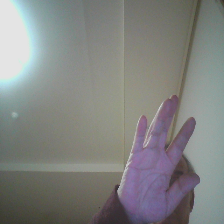hand: (115, 89, 201, 223)
